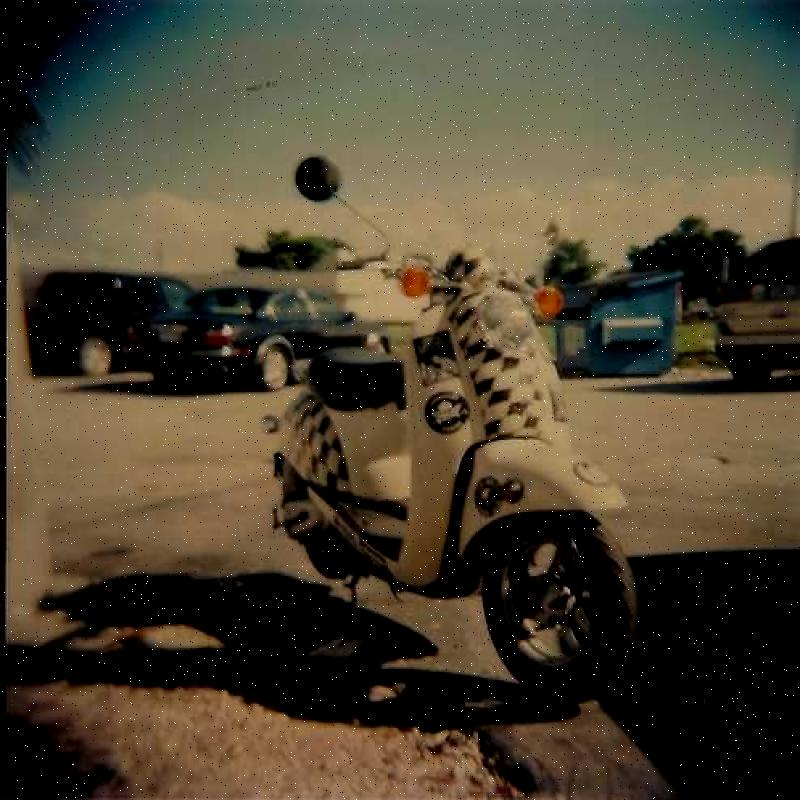bike: (254, 167, 649, 652)
